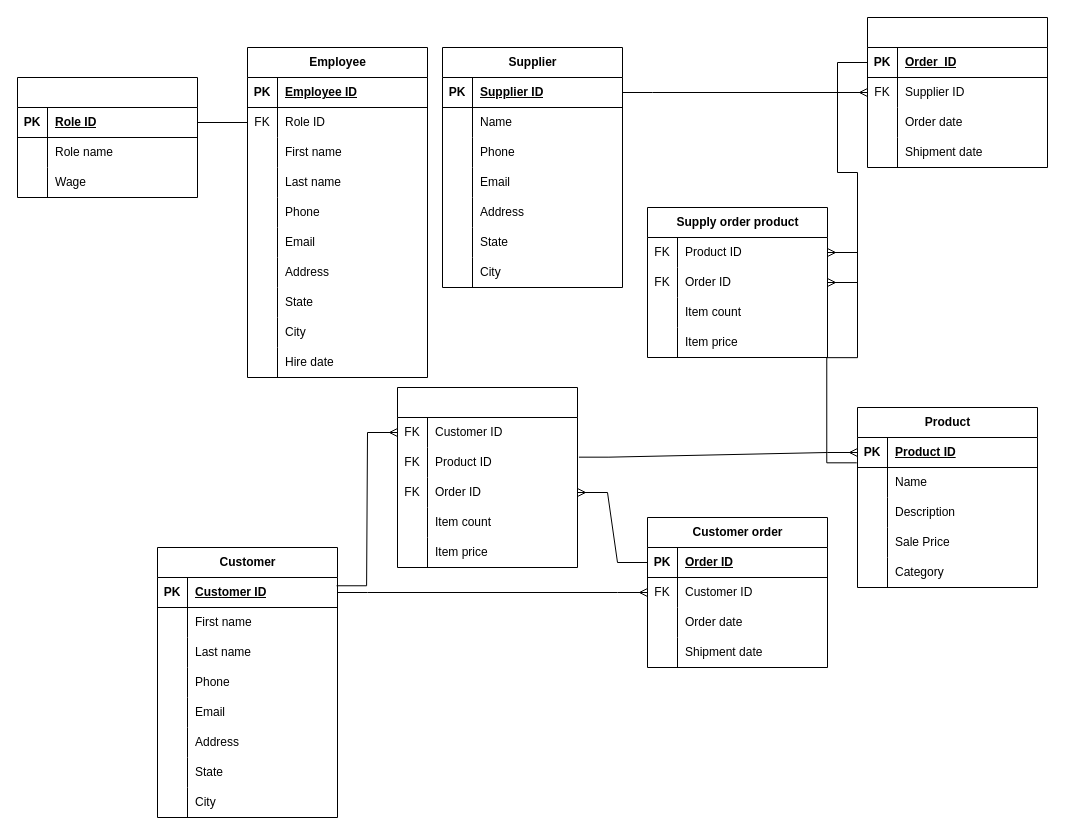
The diagram is 1065 pixels wide and 835 high, and some of its shapes have lost their labels. Here are the shapes that lost their labels. From the top down, the box of each, then its label:
(866, 16, 1048, 168): Supply Order
(16, 76, 198, 198): Employee Role
(396, 386, 578, 568): Customer order product
